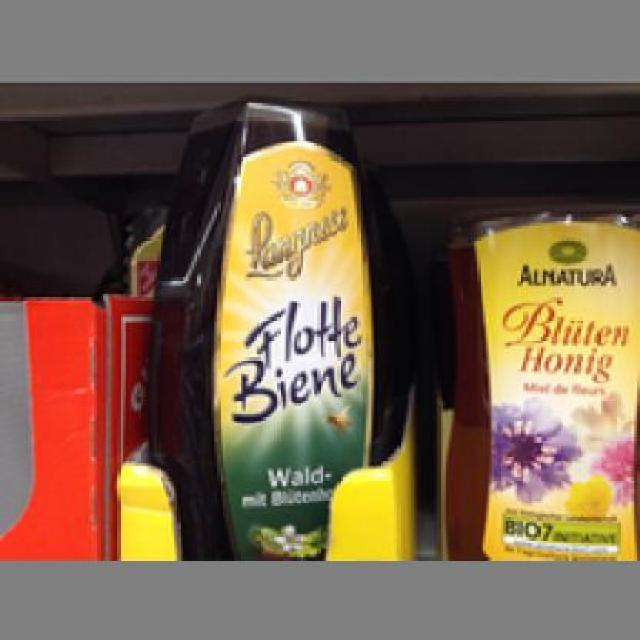Honey: (154, 97, 397, 552), (442, 212, 638, 558)
